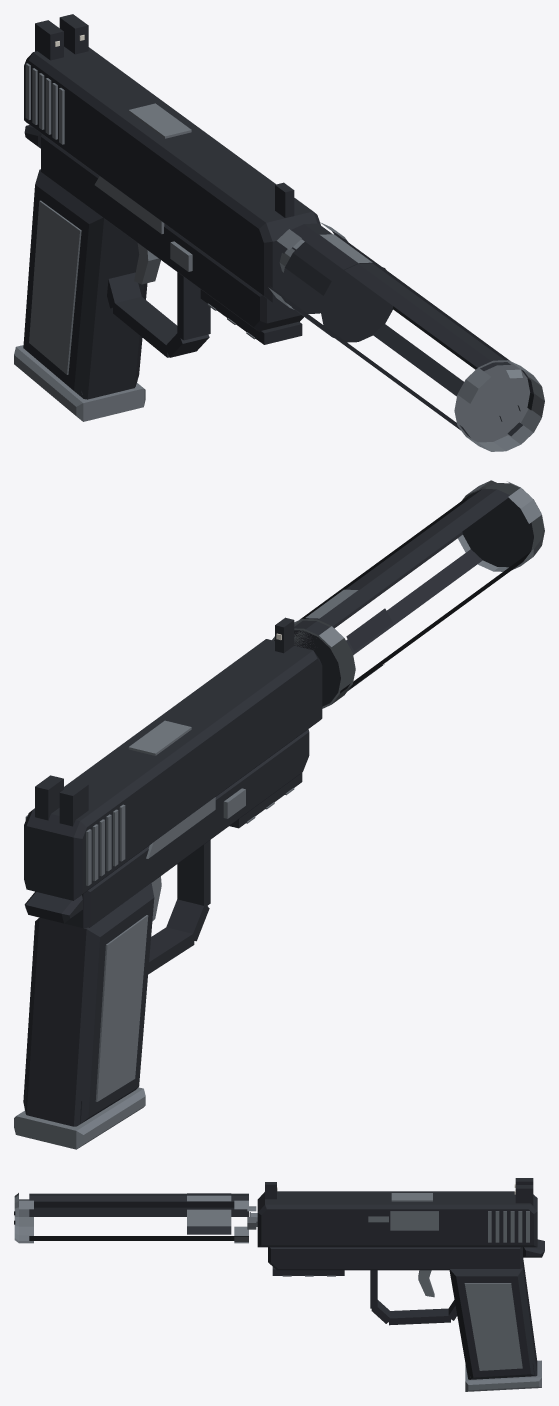
Rendered from pistol_silenced_hd.glb.
3 views of the same model, one above another, from view 1: azimuth 30°, elevation 25°; view 2: azimuth 150°, elevation 25°; view 3: azimuth 270°, elevation 25° (orthographic). The views are drawn at different scales.
Visible parts, largest first — view 1: pistol_silenced_hd_mesh, SLIDE, MAGAZINE, TRIGGER; view 2: pistol_silenced_hd_mesh, SLIDE, MAGAZINE; view 3: pistol_silenced_hd_mesh, SLIDE, MAGAZINE, TRIGGER.
Boxes of the visible parts, x1,y1,x2,y2 form: pistol_silenced_hd_mesh: (23,125,544,451); SLIDE: (24,14,320,302); MAGAZINE: (14,345,145,421); TRIGGER: (134,243,160,284); pistol_silenced_hd_mesh: (23,480,544,1126); SLIDE: (24,617,322,900); MAGAZINE: (14,1087,145,1149); pistol_silenced_hd_mesh: (14,1193,544,1379); SLIDE: (257,1178,537,1247); MAGAZINE: (465,1360,541,1391); TRIGGER: (418,1270,434,1297).
Bounding box in the file's own units: 0.0346 × 0.15 × 0.3605.
Materials: 1 (1 with a texture image).
